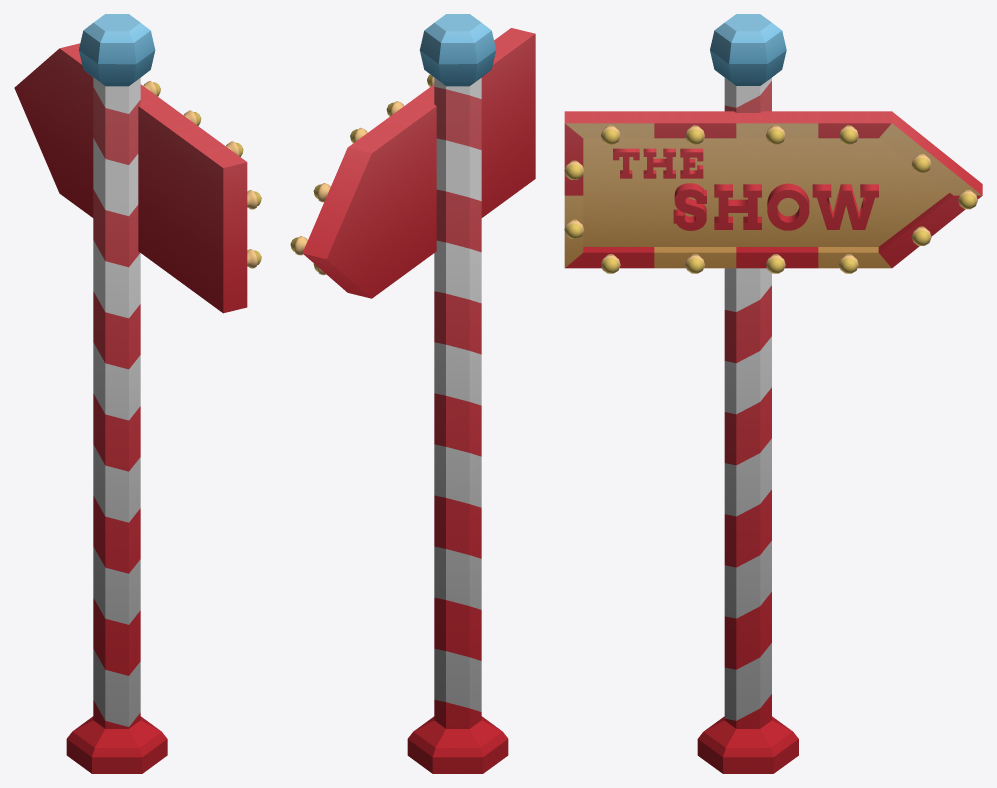
Rendered from the_show_right_pole.fbx.
The picture shows the model from 3 angles, left to right: view 1: azimuth 30°, elevation 25°; view 2: azimuth 150°, elevation 25°; view 3: azimuth 270°, elevation 25°; orthographic projection.
Visible parts, largest first — view 1: the_show_right_pole; view 2: the_show_right_pole; view 3: the_show_right_pole.
Boxes of the visible parts, bbox=[...] form: the_show_right_pole: bbox=[14, 14, 261, 773]; the_show_right_pole: bbox=[290, 14, 535, 773]; the_show_right_pole: bbox=[564, 14, 982, 773].
Bounding box in the file's own units: 35.65 × 264 × 137.
